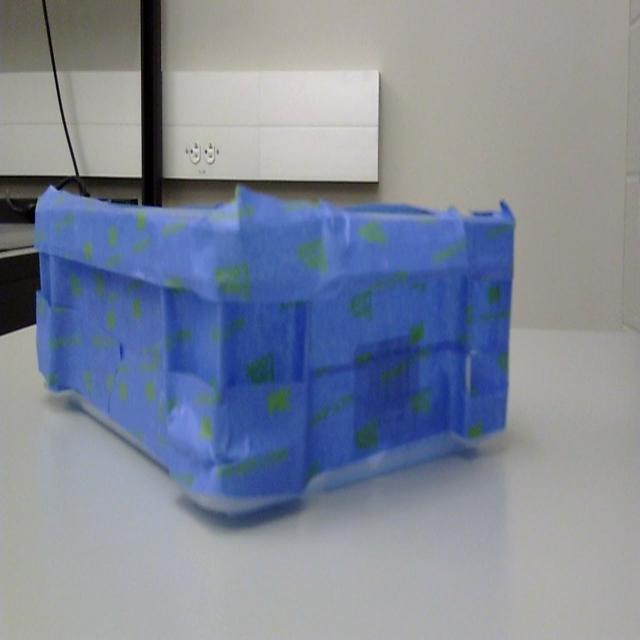bucket: (33, 186, 516, 527)
